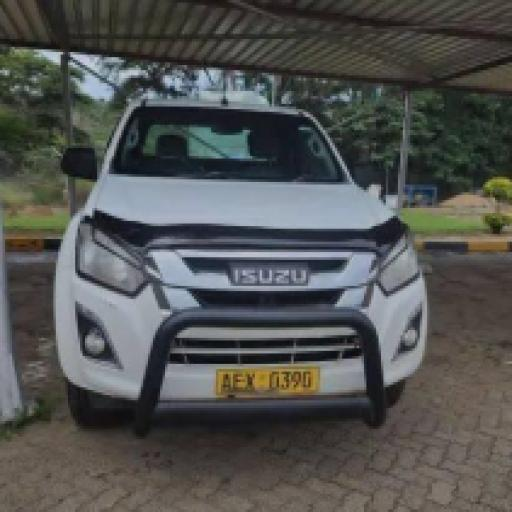number-plates: (220, 363, 318, 400)
